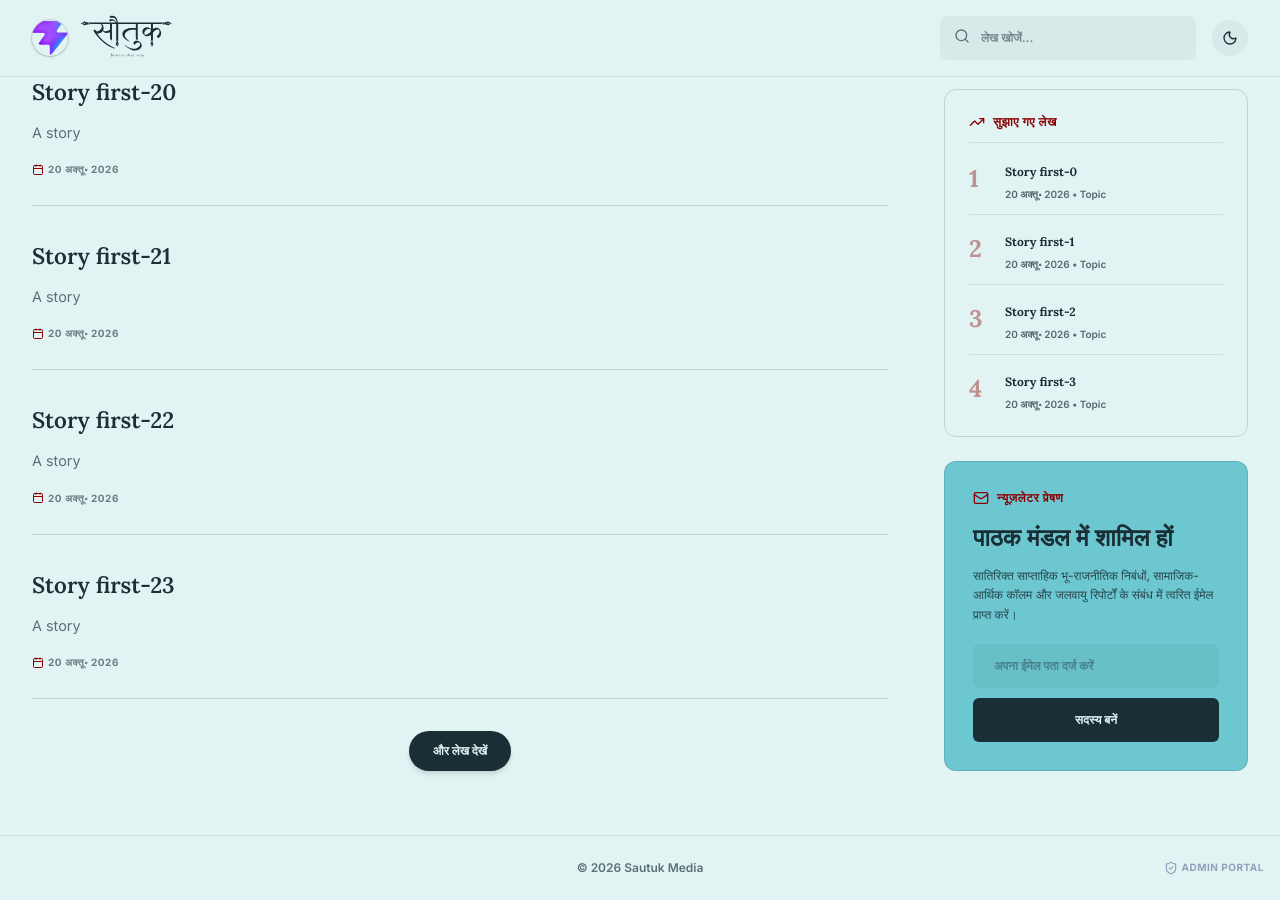
Scenario: loads the next bounded archive page while keeping the first page visible
(page scrolled)
Click the button "और लेख देखें" at (460, 751), box [409,731,511,771]
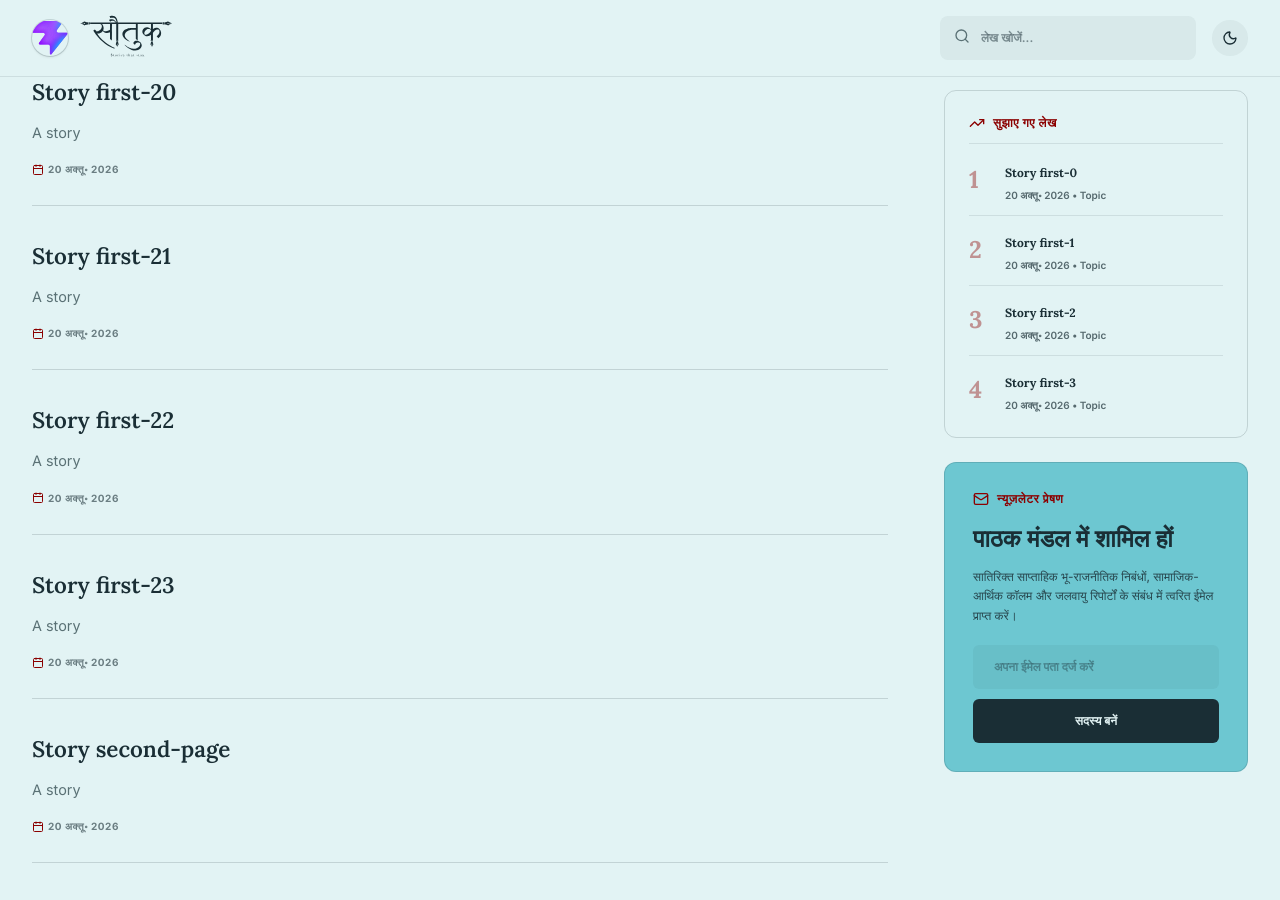
Check: the heading "Story first-23" is shown, box [32,570,175,599]
Check: the heading "Story second-page" is shown, box [32,734,230,763]
Check: the button "और लेख देखें" is gone
